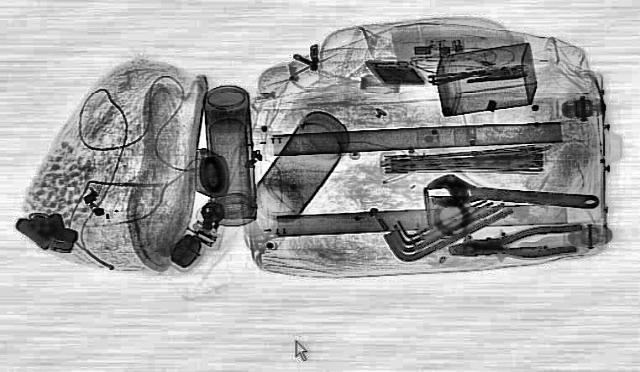Pliers: (444, 223, 588, 263)
Wrench: (419, 171, 605, 217)
